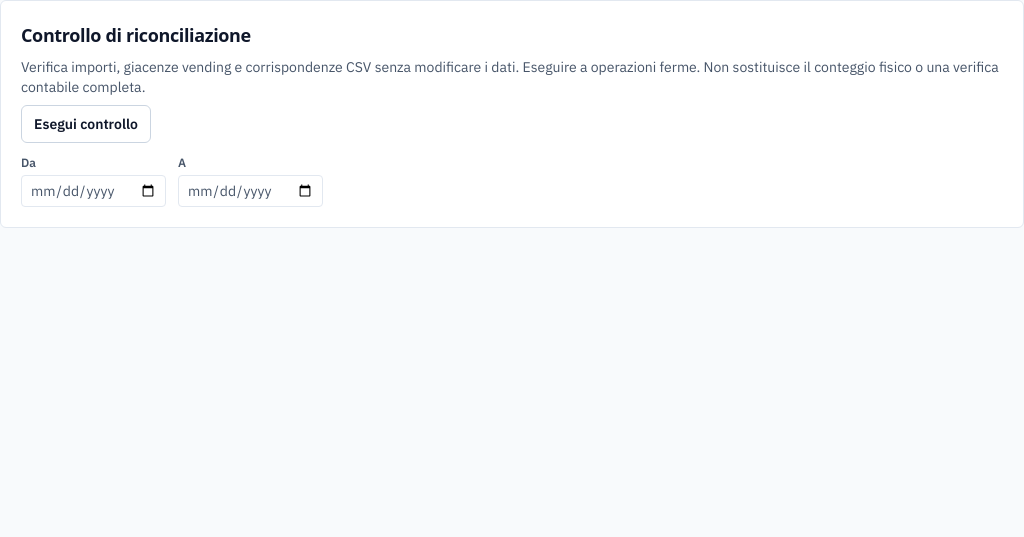
Test: mostra riferimenti, importi, pagamento e dettagli omessi
Click the button "Esegui controllo".
click(86, 124)  # box [21,105,151,143]
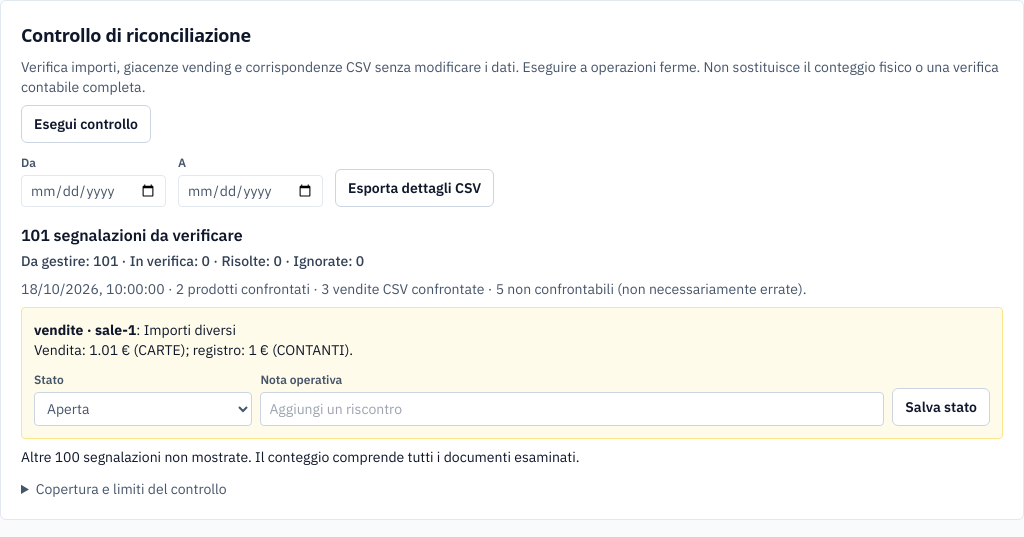
Expected: the text "101 segnalazioni da verificare" is shown, [21,225,243,245]
Expected: the text "sale-1" is shown, [95,321,136,339]
Expected: the text "1.01 € (CARTE)" is shown, [34,341,353,359]
